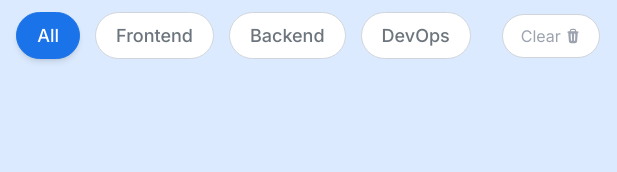
it: Tabs Component (Desktop View) › clears all filters when "Clear" button is clicked
Click the button "Frontend": (155, 36) [95,12,214,59]
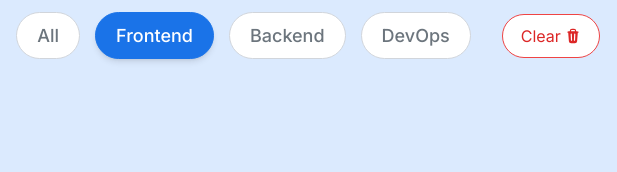
Click the button "Backend": (288, 36) [229,12,346,59]
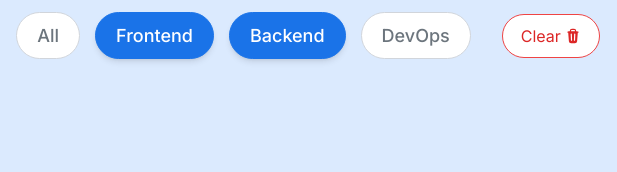
Click the button "Clear": (551, 36) [502,14,600,58]
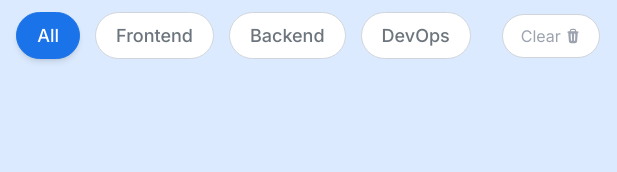
Expected: the button "Clear" is disabled, [502,14,600,58]
